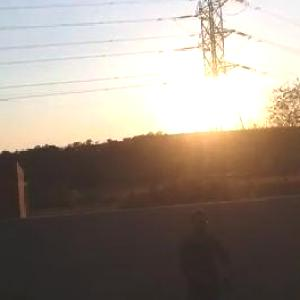follow: (175, 199, 244, 299)
